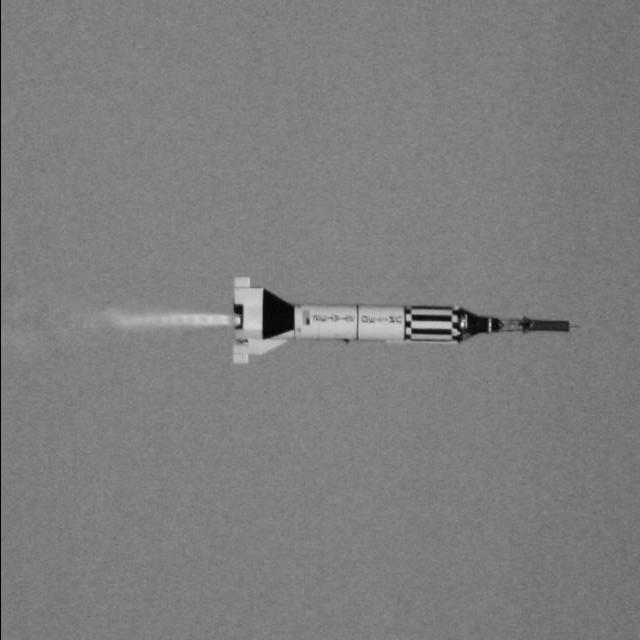missile: (231, 277, 586, 366)
